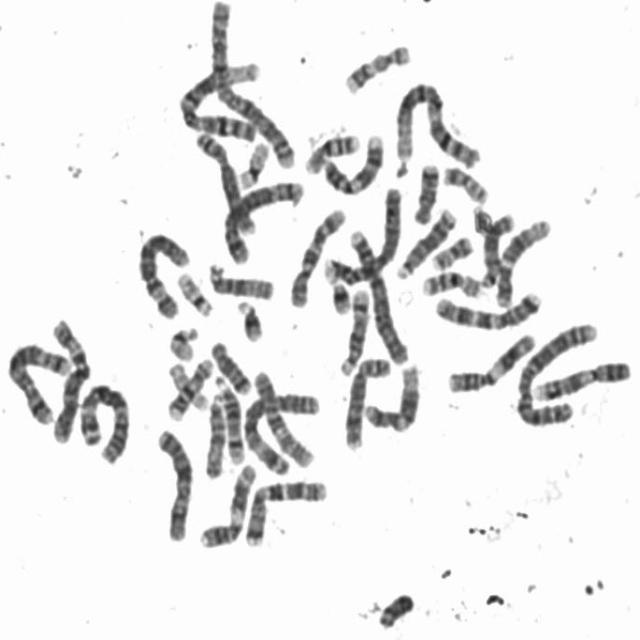A1: (390, 76, 485, 170), (173, 55, 264, 141)
A2: (203, 0, 298, 171), (511, 316, 602, 428)
A3: (238, 387, 321, 475), (73, 376, 132, 467)
B4: (346, 222, 410, 366), (322, 180, 406, 288)
B5: (219, 173, 307, 267), (3, 338, 76, 430)
C10: (248, 367, 315, 470), (285, 201, 348, 309)
C11: (443, 327, 539, 395), (195, 458, 258, 552)
C12: (490, 210, 554, 309), (360, 358, 424, 433)
C6: (46, 313, 95, 445), (134, 226, 193, 322)
C7: (242, 475, 331, 548), (431, 284, 544, 331)
C8: (190, 124, 258, 237), (341, 351, 394, 452)
C9: (530, 353, 634, 402), (318, 126, 387, 197)
D13: (392, 202, 459, 280), (478, 208, 518, 292)
D14: (337, 284, 374, 380), (210, 372, 246, 467)
D15: (204, 258, 276, 302), (202, 387, 228, 481)
E16: (301, 130, 363, 178), (418, 265, 485, 300)
E17: (340, 40, 416, 100), (163, 356, 216, 423)
E18: (206, 334, 254, 396), (413, 161, 445, 230)
F19: (167, 364, 210, 414), (234, 136, 271, 190)
F20: (441, 162, 492, 206), (428, 230, 476, 271)
G21: (233, 294, 266, 344), (326, 276, 354, 316)
G22: (173, 266, 216, 317), (165, 321, 200, 362)
X: (152, 423, 196, 544)
Y: (374, 586, 416, 630)
